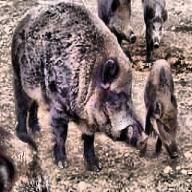boar: (10, 0, 148, 172), (142, 58, 180, 158), (140, 0, 167, 67)
